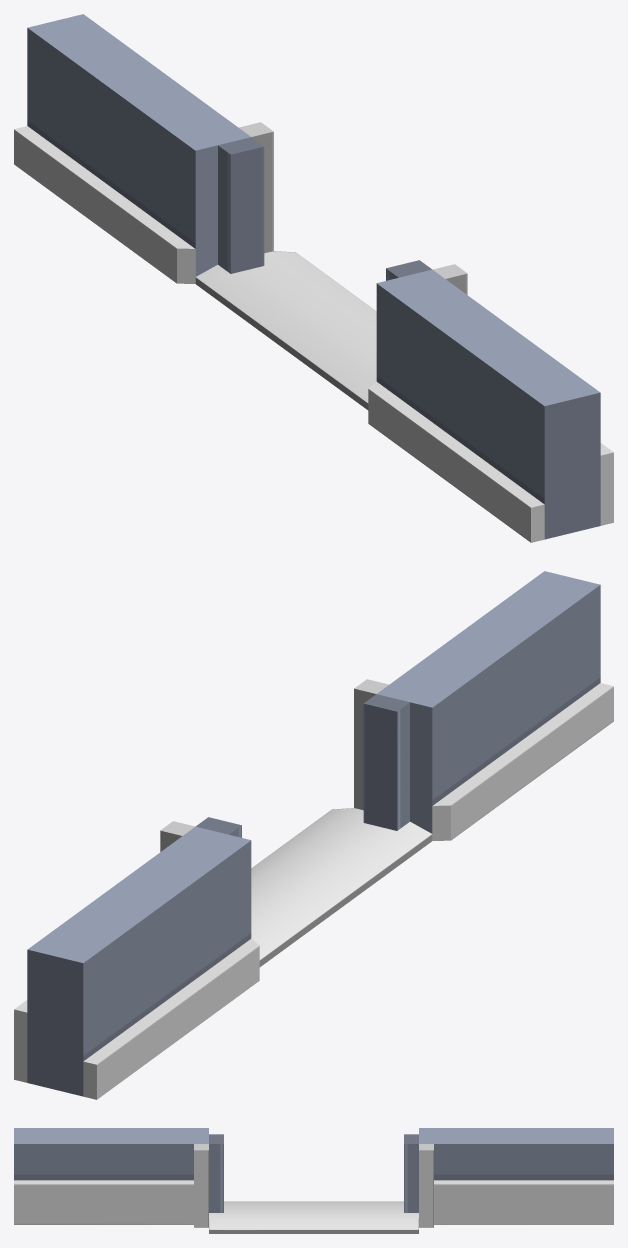
File: office_pack_demoRoom_wall_door_visible.fbx
3 renders of one model, top to bottom at view 1: azimuth 30°, elevation 25°; view 2: azimuth 150°, elevation 25°; view 3: azimuth 270°, elevation 25°, orthographic. The views are drawn at different scales.
Visible parts, largest first — view 1: office_pack_demoRoom_wall_door_visible; view 2: office_pack_demoRoom_wall_door_visible; view 3: office_pack_demoRoom_wall_door_visible.
Boxes of the visible parts, <box> form: office_pack_demoRoom_wall_door_visible: <box>14,14,613,542</box>; office_pack_demoRoom_wall_door_visible: <box>14,571,613,1099</box>; office_pack_demoRoom_wall_door_visible: <box>14,1128,613,1233</box>.
Bounding box in the file's own units: 25.5 × 28.46 × 200.
